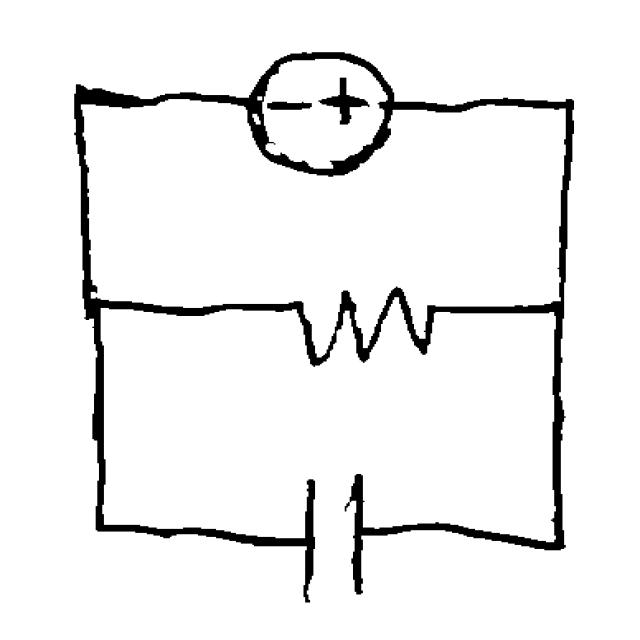capacitor: (284, 463, 386, 615)
dc: (228, 38, 409, 182)
resistor: (272, 264, 452, 375)
